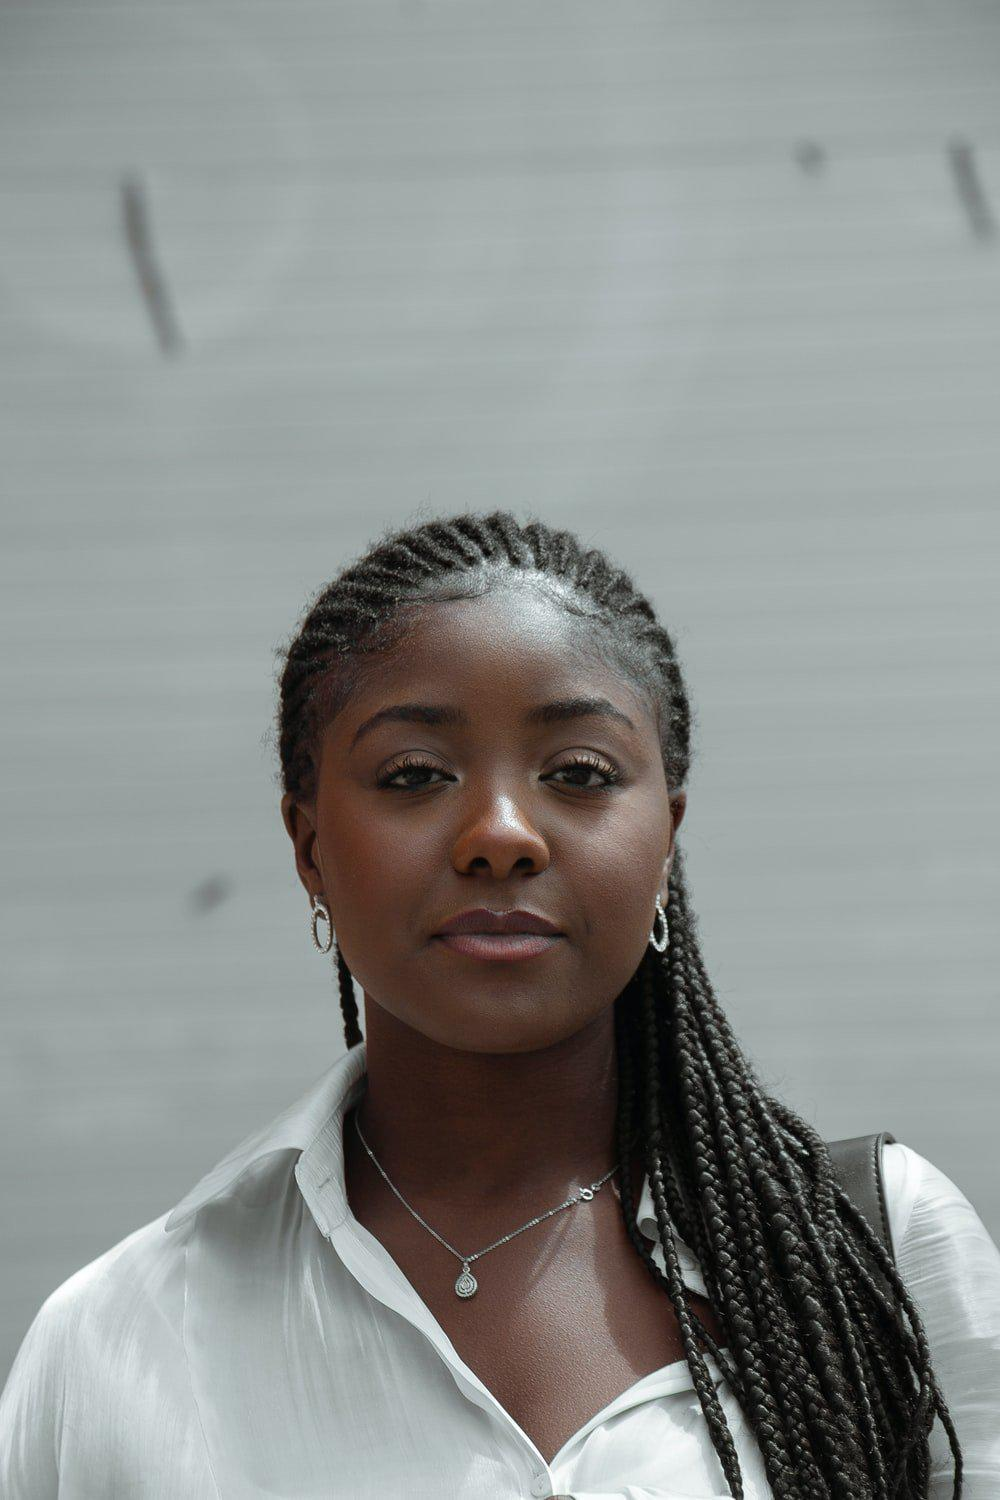Sober: (331, 634, 675, 1020)
